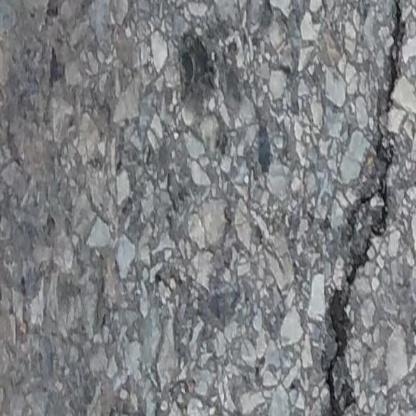Cracks: (323, 137, 399, 416), (379, 0, 413, 116)
